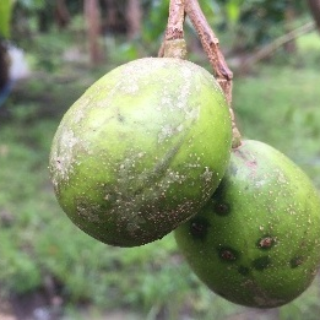coc: (47, 56, 232, 251)
